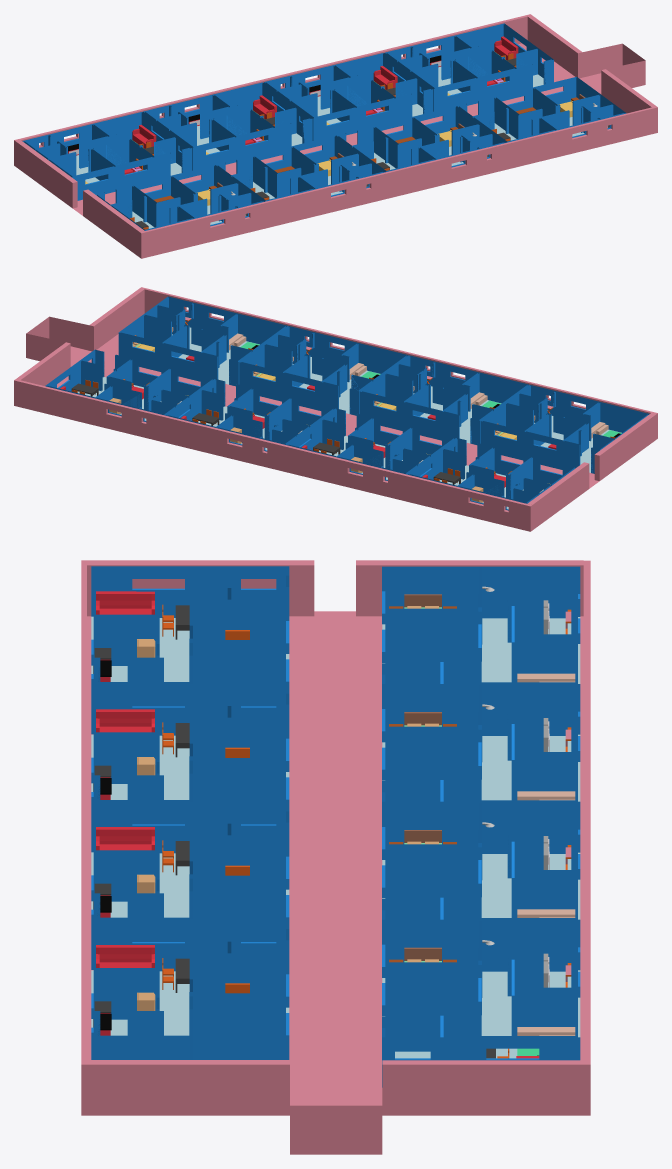
The model's file is primeiroandar1.5 4.4.3.fbx.
3 renders of one model, top to bottom at view 1: azimuth 30°, elevation 25°; view 2: azimuth 150°, elevation 25°; view 3: azimuth 270°, elevation 25°, orthographic. The views are drawn at different scales.
Visible parts, largest first — view 1: Plane.040, Plane.019, Plane.010, Plane.009, Plane, Plane.039, Plane.030, Plane.020, Plane.029, Cube.092, Cube.161, Cube.008 (+1 smaller); view 2: Plane.040, Plane.039, Plane.030, Plane.020, Plane.029, Plane.019, Plane.009, Plane.010, Plane, Plane.035, Plane.024, Plane.034 (+1 smaller); view 3: Plane.040, Plane.010, Plane.039, Plane, Plane.009, Plane.019, Plane.029, Plane.020, Plane.030, Plane.014, Plane.004, Plane.005 (+9 smaller).
Part boxes in pixels (x1,y1,x2,y2): Plane.040: (14, 14, 657, 258); Plane.019: (264, 53, 433, 140); Plane.010: (384, 23, 553, 111); Plane.009: (143, 82, 312, 170); Plane: (22, 112, 191, 200); Plane.039: (457, 76, 626, 142); Plane.030: (336, 106, 505, 172); Plane.020: (215, 135, 384, 201); Plane.029: (95, 165, 263, 230); Cube.092: (494, 36, 518, 60); Cube.161: (373, 66, 397, 89); Cube.008: (132, 124, 156, 148); Plane.040: (14, 287, 657, 531); Plane.039: (118, 296, 287, 386); Plane.030: (239, 326, 408, 415); Plane.020: (360, 355, 529, 444); Plane.029: (480, 385, 649, 473); Plane.019: (166, 379, 335, 451); Plane.009: (287, 408, 456, 480); Plane.010: (45, 349, 214, 421); Plane: (407, 438, 576, 510); Plane.035: (172, 327, 259, 384); Plane.024: (413, 386, 501, 443); Plane.034: (292, 357, 378, 413); Plane.040: (81, 560, 590, 1154); Plane.010: (382, 920, 580, 1087); Plane.039: (91, 919, 289, 1059); Plane: (382, 566, 580, 684); Plane.009: (382, 684, 580, 802); Plane.019: (382, 802, 580, 920); Plane.029: (91, 566, 289, 706); Plane.020: (91, 684, 289, 824); Plane.030: (91, 802, 289, 941); Plane.014: (382, 970, 580, 1058); Plane.004: (382, 617, 580, 683); Plane.005: (382, 734, 580, 801).
Size of the model in its own units: 6475 by 284 by 2567.
